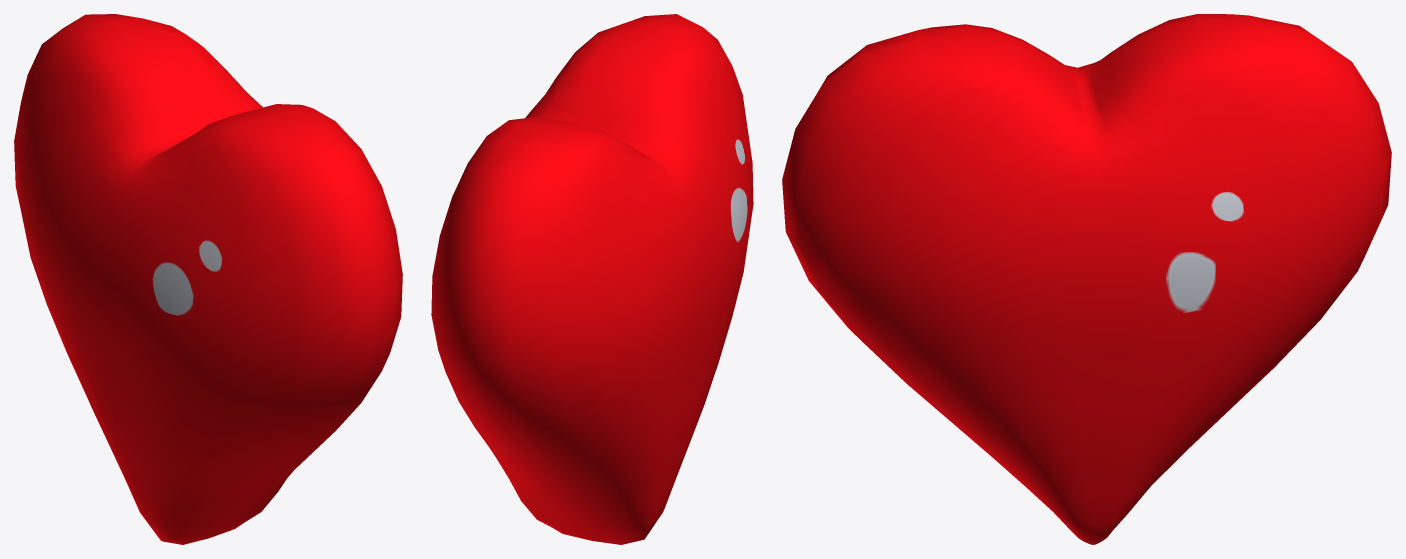
The model's file is HEART.fbx.
3 renders of one model, left to right at view 1: azimuth 30°, elevation 25°; view 2: azimuth 150°, elevation 25°; view 3: azimuth 270°, elevation 25°, orthographic. The views are drawn at different scales.
Parts seen in each view (by area): view 1: Cube; view 2: Cube; view 3: Cube.
Boxes of the visible parts, x1=… form: Cube: x1=14, y1=14, x2=402, y2=544; Cube: x1=431, y1=14, x2=753, y2=544; Cube: x1=782, y1=14, x2=1391, y2=544.
Bounding box in the file's own units: 161 × 312 × 346.
